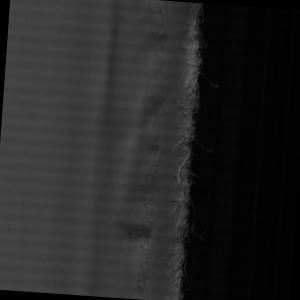Damage: (120, 1, 228, 300)
Wrinkle: (43, 1, 131, 298)
